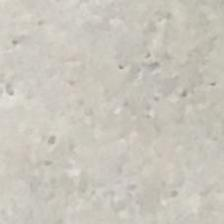Non_Crack: (19, 18, 191, 218)
